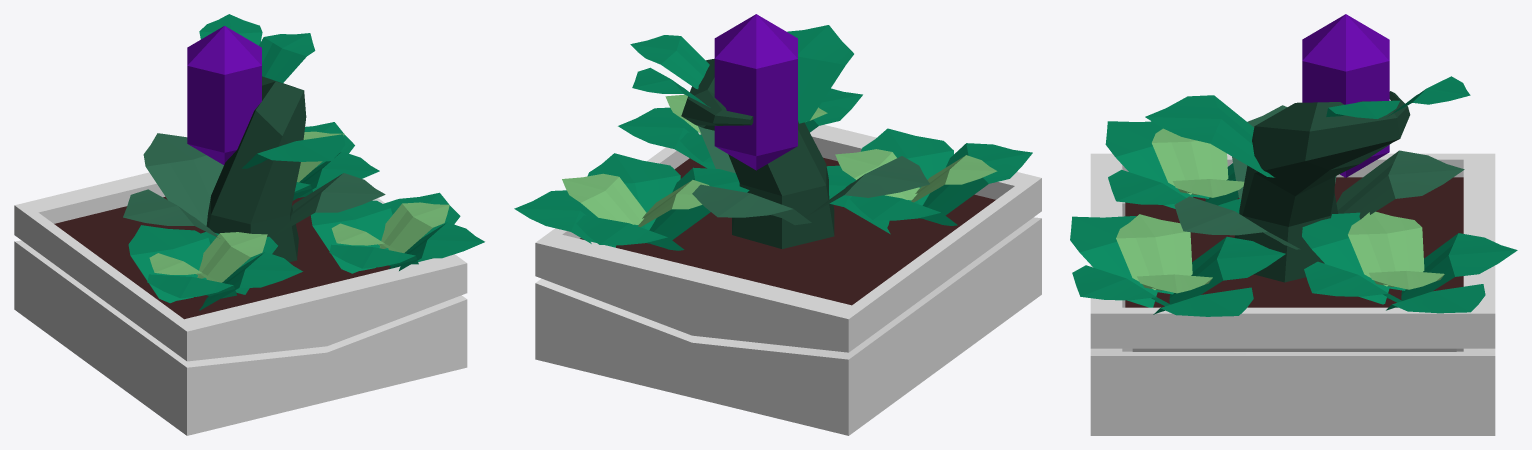
File: Plant_Farm_03.fbx
3 renders of one model, left to right at view 1: azimuth 30°, elevation 25°; view 2: azimuth 150°, elevation 25°; view 3: azimuth 270°, elevation 25°, orthographic. The views are drawn at different scales.
Parts seen in each view (by area): view 1: polySurface2179, polySurface2178, polySurface2175, polySurface2401, polySurface2402, polySurface2176, polySurface2180, polySurface2177, polySurface2403, polySurface2189, polySurface2190, polySurface2188 (+2 smaller); view 2: polySurface2179, polySurface2178, polySurface2180, polySurface2403, polySurface2176, polySurface2401, polySurface2175, polySurface2402, polySurface2191, polySurface2177, polySurface2188, polySurface2190 (+2 smaller); view 3: polySurface2179, polySurface2178, polySurface2175, polySurface2402, polySurface2403, polySurface2401, polySurface2180, polySurface2176, polySurface2177, polySurface2191, polySurface2189, polySurface2181 (+3 smaller).
Part boxes in pixels (x1,y1,x2,y2): polySurface2179: [14, 240, 467, 435]; polySurface2178: [14, 172, 467, 361]; polySurface2175: [204, 76, 306, 262]; polySurface2401: [128, 225, 302, 310]; polySurface2402: [311, 192, 484, 273]; polySurface2176: [187, 26, 261, 164]; polySurface2180: [54, 196, 390, 319]; polySurface2177: [143, 133, 223, 225]; polySurface2403: [293, 122, 379, 200]; polySurface2189: [271, 173, 385, 237]; polySurface2190: [259, 33, 315, 83]; polySurface2188: [123, 189, 219, 238]; polySurface2179: [535, 217, 1041, 435]; polySurface2178: [535, 125, 1041, 352]; polySurface2180: [580, 157, 995, 305]; polySurface2403: [514, 153, 749, 250]; polySurface2176: [714, 14, 797, 170]; polySurface2401: [826, 128, 1032, 234]; polySurface2175: [681, 58, 834, 248]; polySurface2402: [618, 88, 862, 168]; polySurface2191: [787, 25, 853, 123]; polySurface2177: [692, 184, 811, 225]; polySurface2188: [806, 156, 929, 216]; polySurface2190: [630, 35, 709, 89]; polySurface2179: [1090, 202, 1495, 435]; polySurface2178: [1090, 153, 1495, 348]; polySurface2175: [1234, 91, 1410, 282]; polySurface2402: [1070, 214, 1285, 316]; polySurface2403: [1302, 211, 1517, 313]; polySurface2401: [1105, 121, 1244, 213]; polySurface2180: [1125, 177, 1463, 307]; polySurface2176: [1302, 14, 1389, 177]; polySurface2177: [1336, 150, 1464, 219]; polySurface2191: [1145, 95, 1274, 177]; polySurface2189: [1174, 196, 1300, 249]; polySurface2181: [1132, 348, 1456, 351].
Size of the model in its own units: 1.76 by 1.54 by 1.81.
